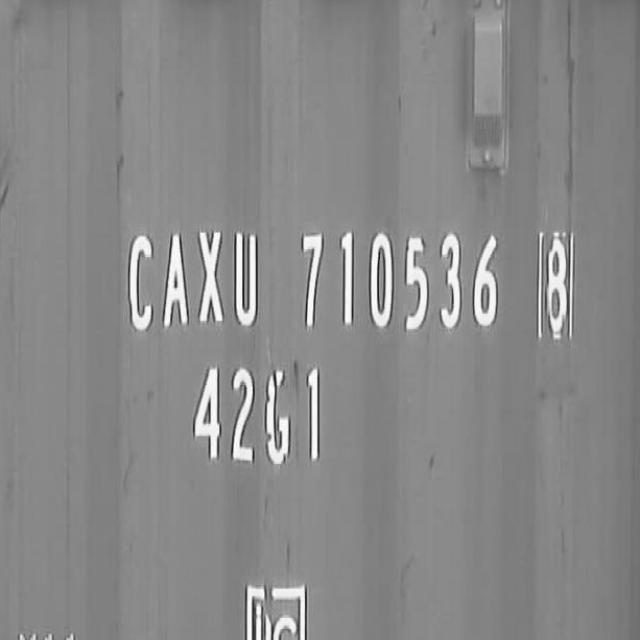dv: (524, 214, 583, 344)
owner: (105, 210, 265, 345)
serial: (293, 202, 511, 351)
size: (185, 352, 335, 483)
